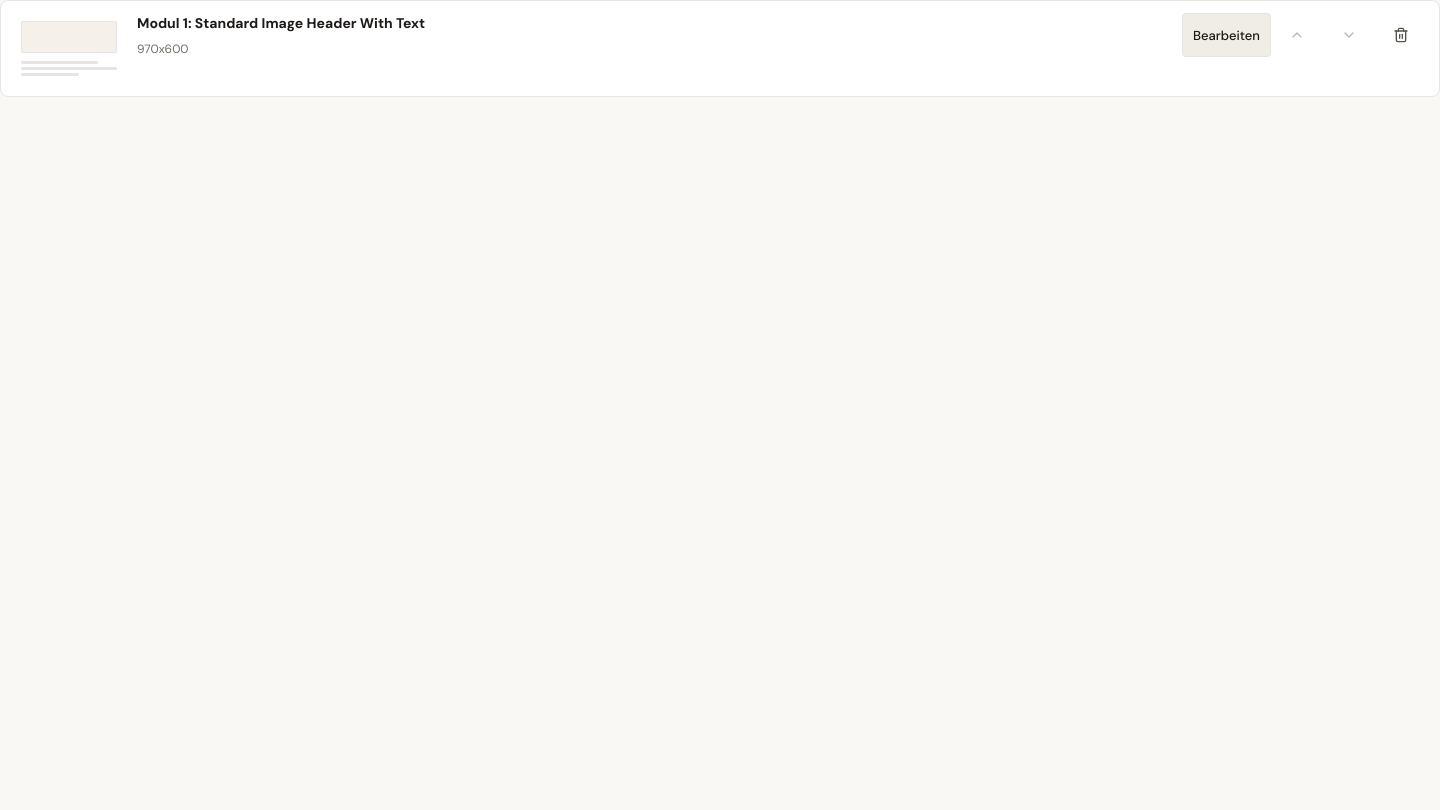
Test: AplusModuleCard › reads an older document without caption, fields or rows
Click the button with test id "aplus-module-0-toggle". click: click(1226, 35)
box: 1182,13 -> 1271,57
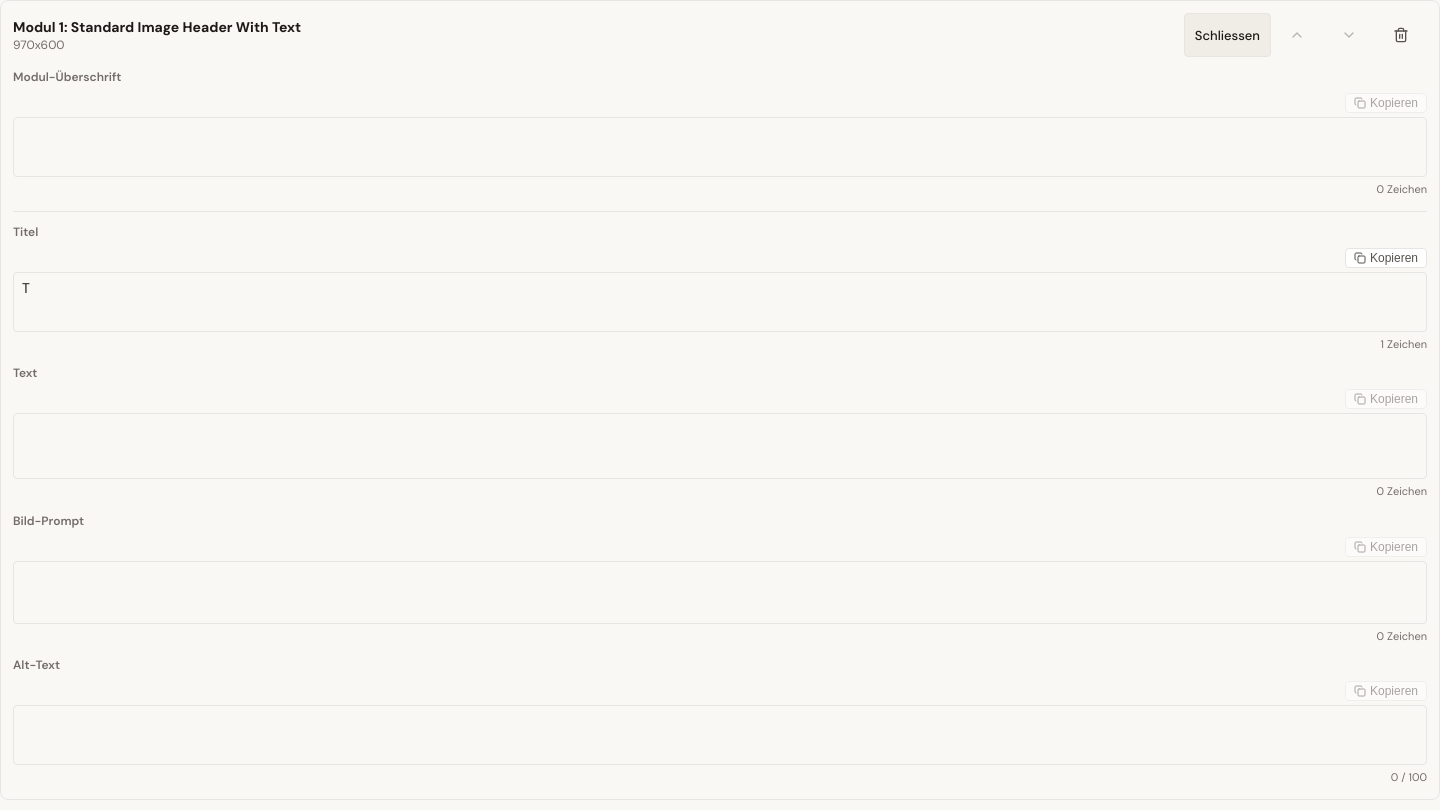
Expected: the text box with test id "aplus-module-0-slot-0-title" holds "T", 13,272 -> 1427,332
